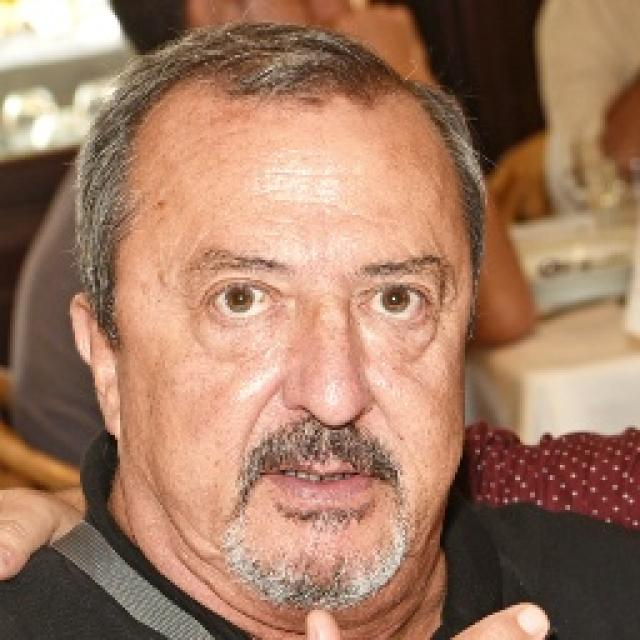earlobe: (70, 291, 124, 438)
